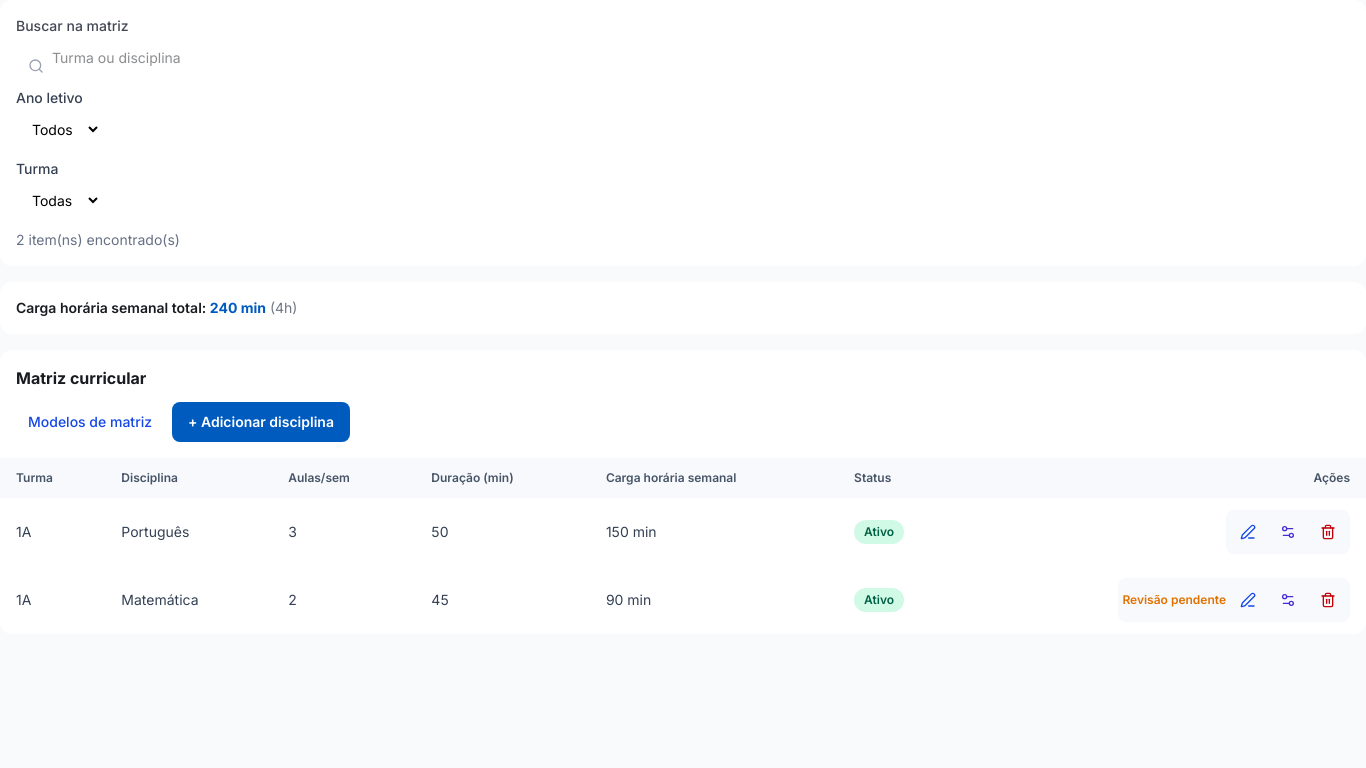
Test: CurriculumTab › abre modal de criacao ao clicar em Adicionar
Click the button "+ Adicionar disciplina" at coordinates (261, 422), box [172,402,350,442]
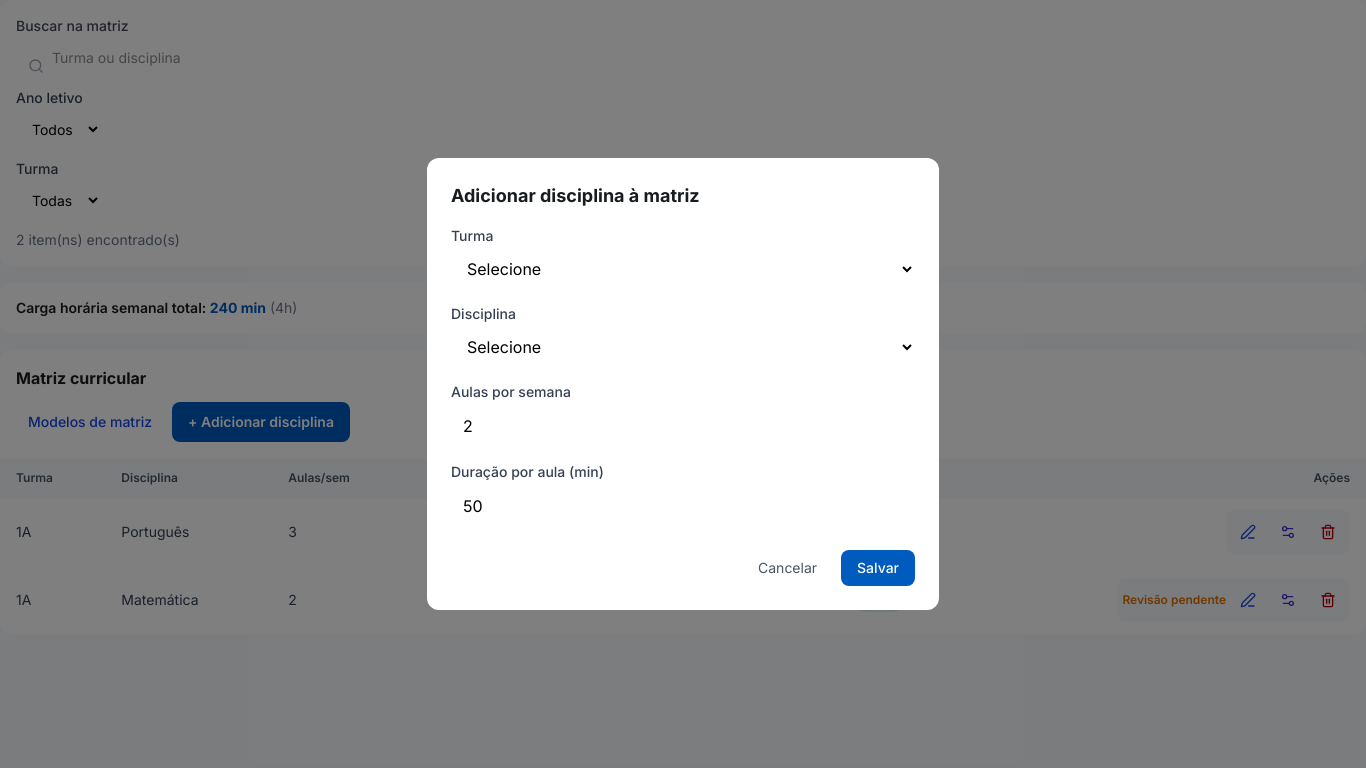
Check: the heading "Adicionar disciplina à matriz" is shown, box [451,185,700,206]
